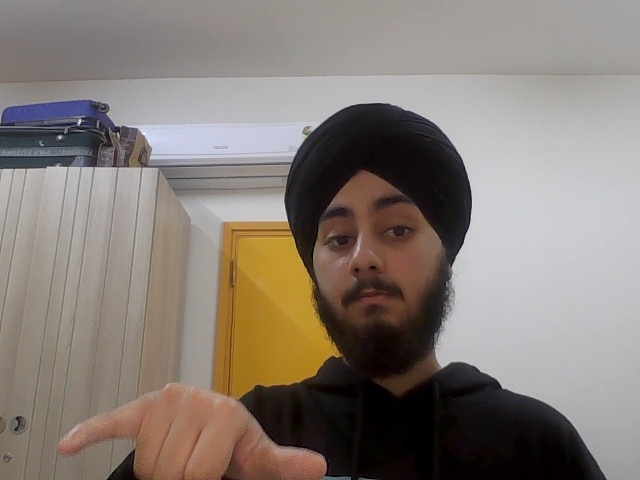Same: (56, 366, 332, 480)
